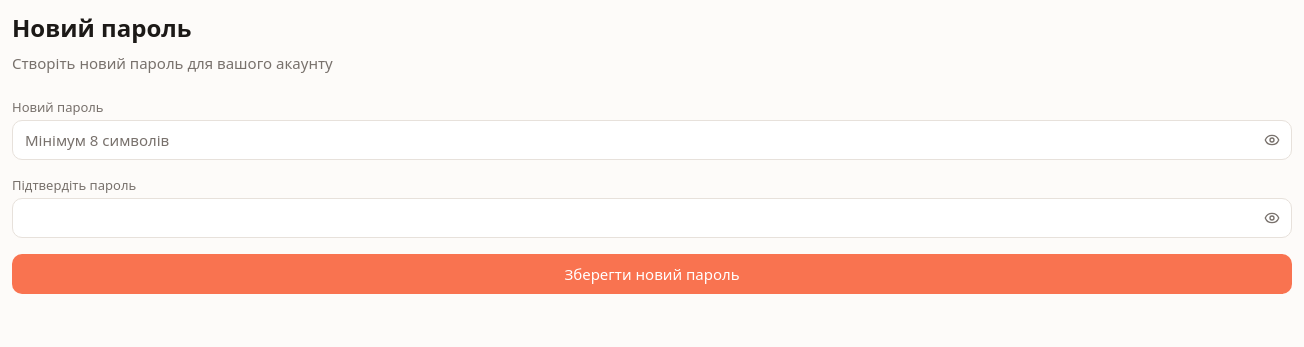
ResetPasswordForm › explains an expired link
Type "12345678" into the password field labelled "Новий пароль" at (652, 140), box [12,120,1292,160]
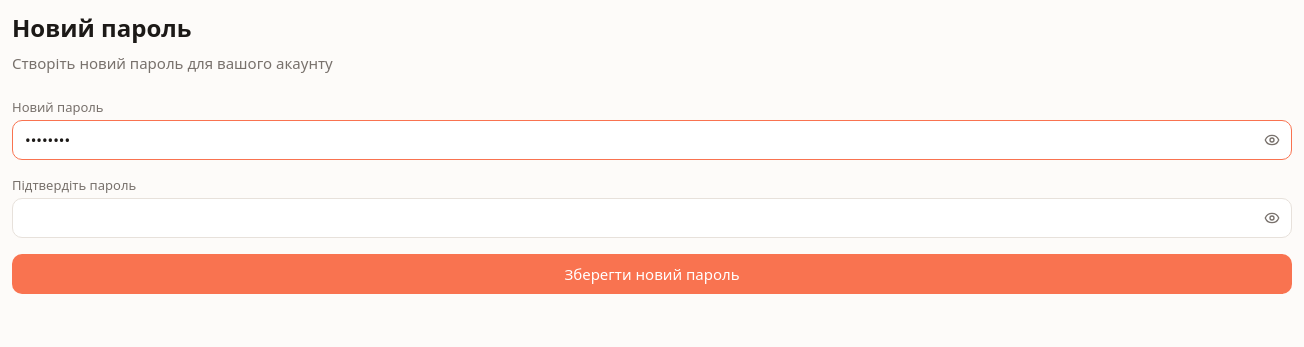
Type "12345678" into the password field labelled "Підтвердіть пароль" at (652, 218), box [12,198,1292,238]
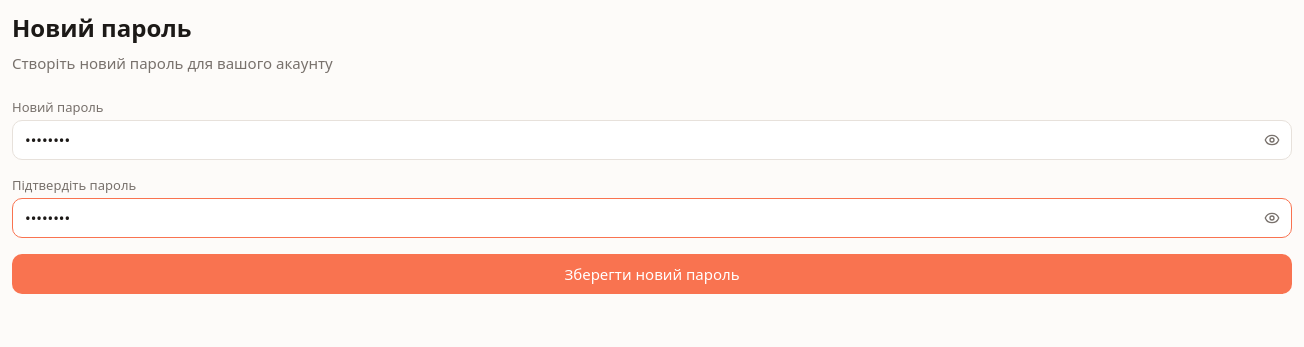
Click the button "Зберегти новий пароль" at (652, 274), box [12,254,1292,294]
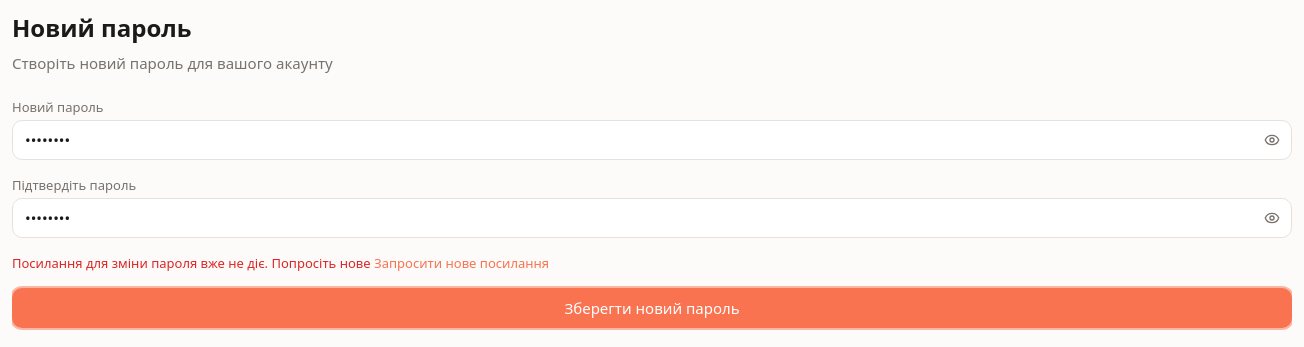
Expected: the message shows "вже не діє", [12,254,371,272]
